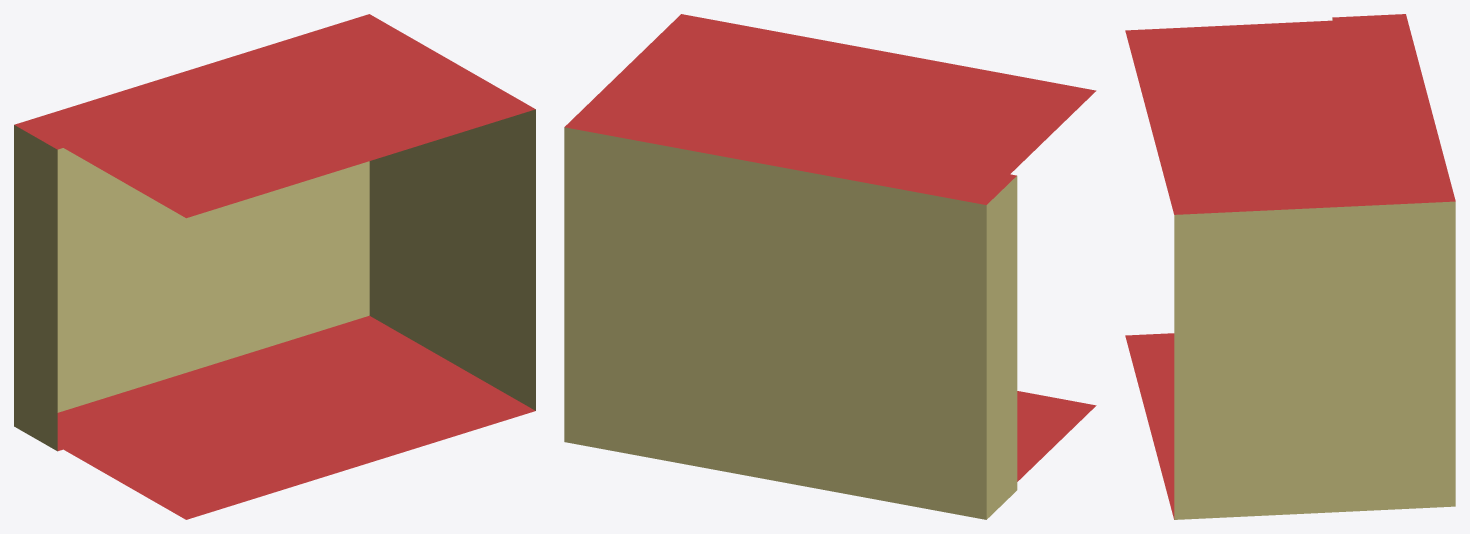
3 views of the same model, side by side, from view 1: azimuth 30°, elevation 25°; view 2: azimuth 150°, elevation 25°; view 3: azimuth 270°, elevation 25° (orthographic). The views are drawn at different scales.
Bounding box in the file's own units: 10.31 × 7.17 × 7.3.
